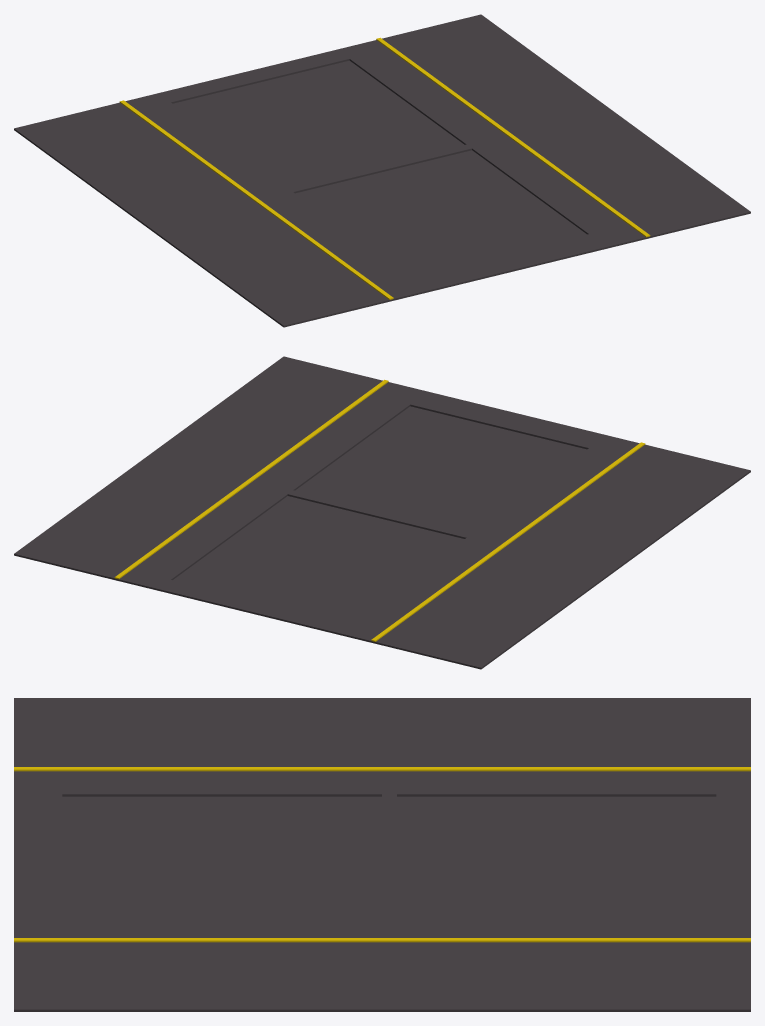
The model's file is hanger_tile.glb.
3 renders of one model, top to bottom at view 1: azimuth 30°, elevation 25°; view 2: azimuth 150°, elevation 25°; view 3: azimuth 270°, elevation 25°, orthographic. The views are drawn at different scales.
Visible parts, largest first — view 1: Plane.001; view 2: Plane.001; view 3: Plane.001.
Boxes of the visible parts, left/top/right/bottom form: Plane.001: left=14, top=14, right=750, bottom=327; Plane.001: left=14, top=356, right=750, bottom=669; Plane.001: left=14, top=698, right=750, bottom=1011.
Bounding box in the file's own units: 115 × 0.6979 × 116.
